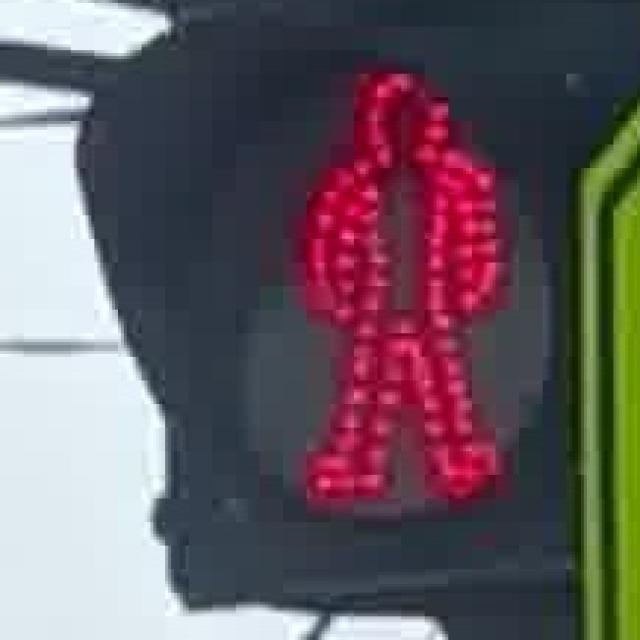red_light: (268, 47, 531, 525)
